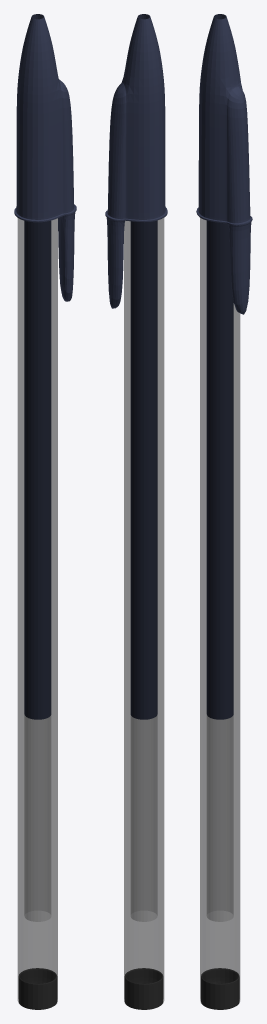
File: pencil2.obj
3 views of the same model, side by side, from view 1: azimuth 30°, elevation 25°; view 2: azimuth 210°, elevation 25°; view 3: azimuth 330°, elevation 25° (orthographic).
Parts seen in each view (by area): view 1: tap_pen_Cylinder.001; view 2: tap_pen_Cylinder.001; view 3: tap_pen_Cylinder.001.
Part boxes in pixels (x1,y1,x2,y2): tap_pen_Cylinder.001: (14, 14, 76, 1009); tap_pen_Cylinder.001: (105, 14, 167, 1009); tap_pen_Cylinder.001: (196, 14, 252, 1009).
Size of the model in its own units: 0.0611 by 1.06 by 0.0453.
